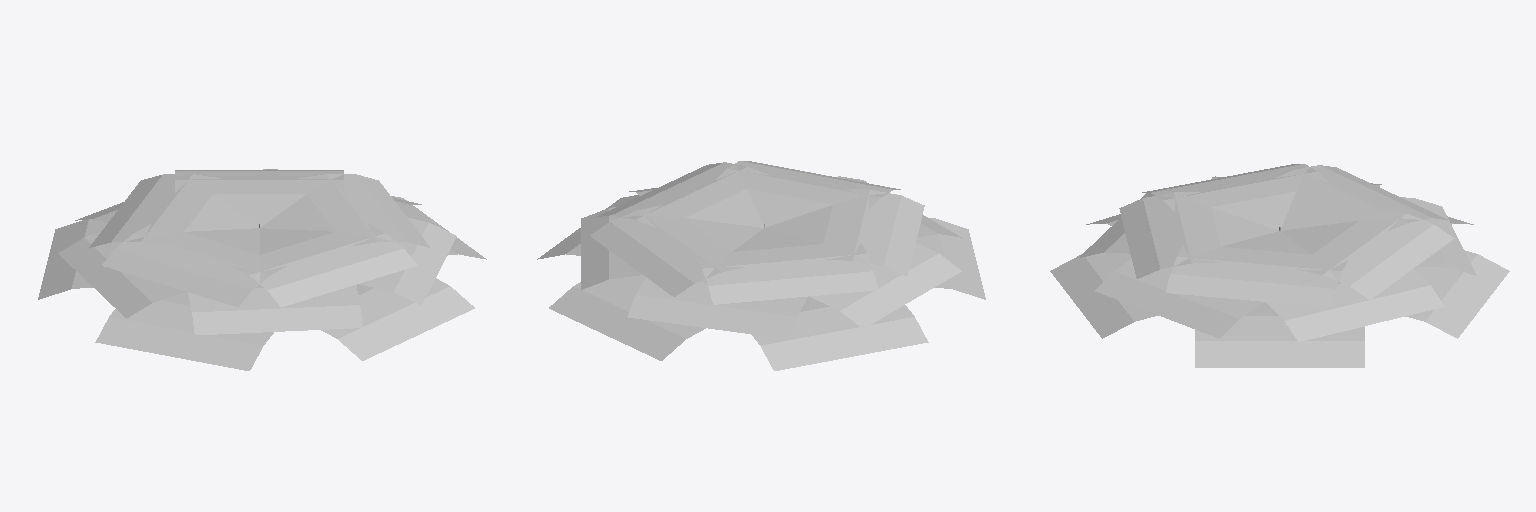
The model's file is shrub.obj.
3 views of the same model, side by side, from view 1: azimuth 30°, elevation 25°; view 2: azimuth 150°, elevation 25°; view 3: azimuth 270°, elevation 25° (orthographic).
Visible parts, largest first — view 1: $dummy_node.001; view 2: $dummy_node.001; view 3: $dummy_node.001.
Part boxes in pixels (bbox=[...]): $dummy_node.001: bbox=[38, 169, 486, 370]; $dummy_node.001: bbox=[537, 161, 985, 370]; $dummy_node.001: bbox=[1050, 164, 1509, 367].
Size of the model in its own units: 93.26 by 16.09 by 98.06.